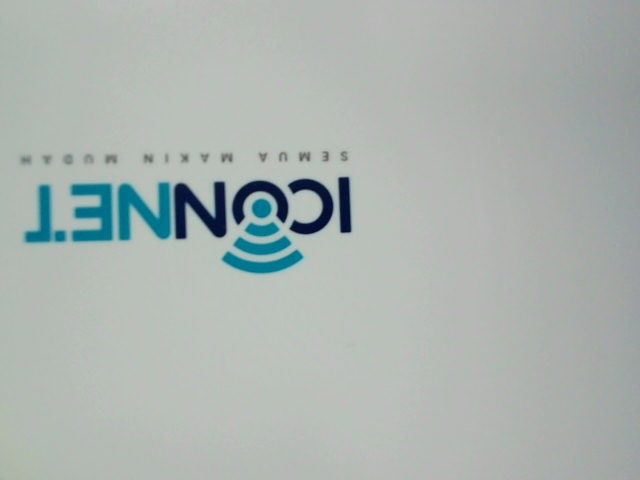BM_ICONNET: (8, 136, 368, 283)
